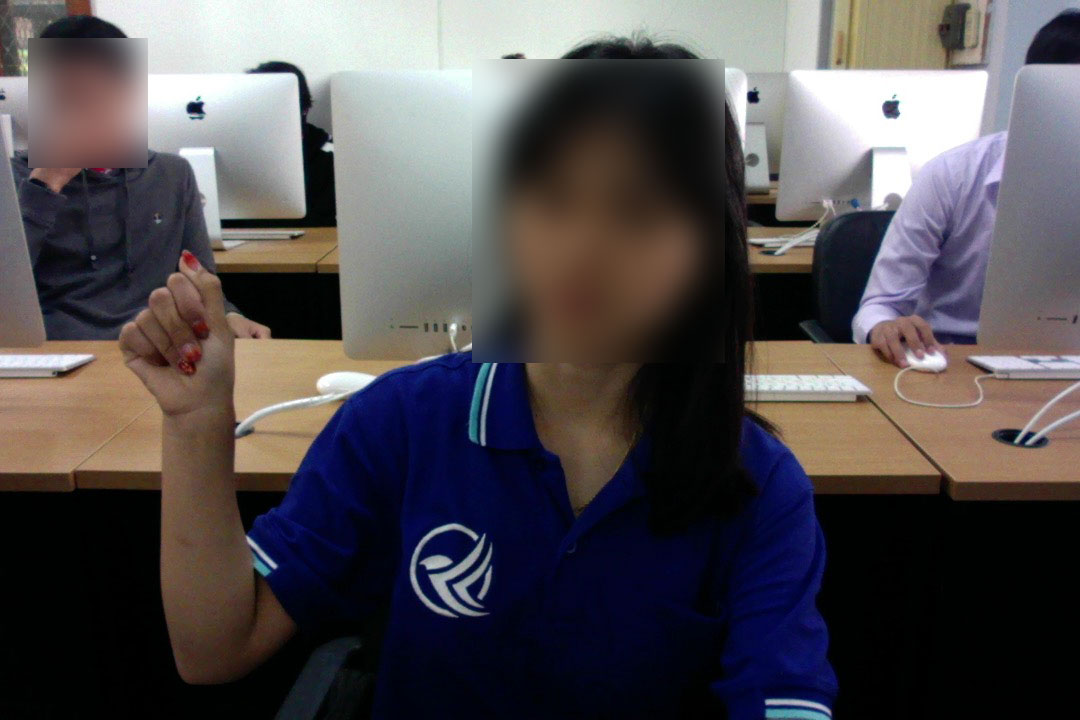or: (109, 241, 245, 428)
